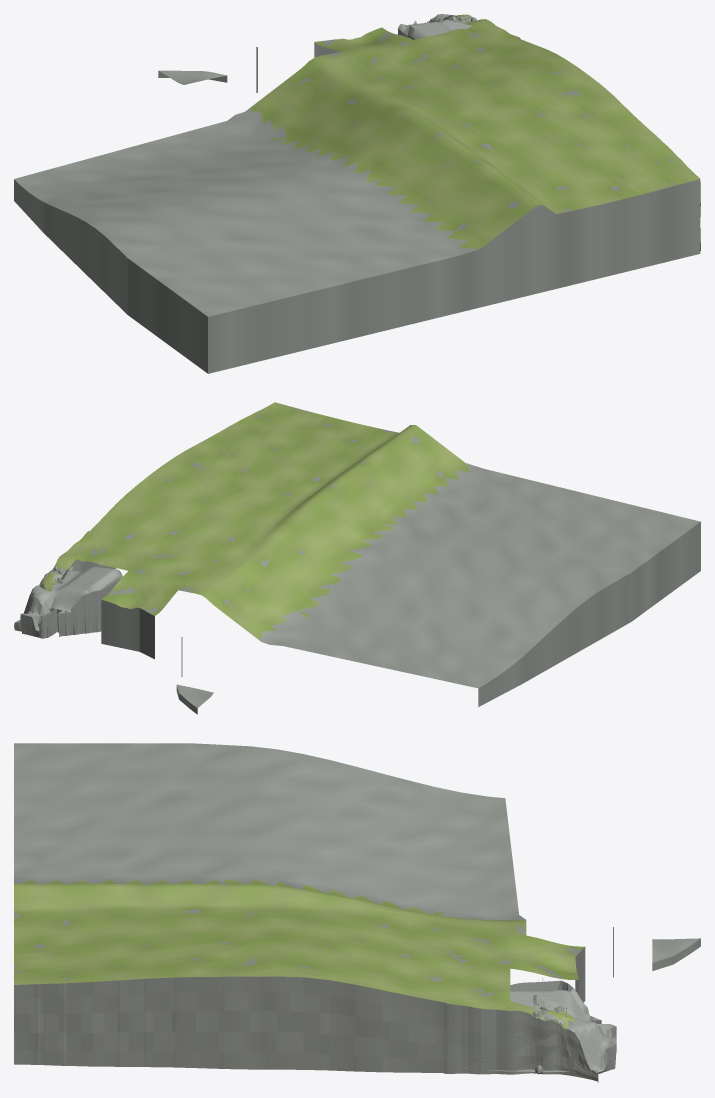
The model's file is retreat_departure_sal3_runtime.glb.
The picture shows the model from 3 angles, top to bottom: view 1: azimuth 30°, elevation 25°; view 2: azimuth 150°, elevation 25°; view 3: azimuth 270°, elevation 25°; orthographic projection. The views are drawn at different scales.
Parts seen in each view (by area): view 1: SAL3_Coastal_Backland_Stone, SAL3_Coastal_Backland_Soil, SAL3_Coastal_Backland_Headland; view 2: SAL3_Coastal_Backland_Stone, SAL3_Coastal_Backland_Soil, SAL3_Coastal_Backland_Headland; view 3: SAL3_Coastal_Backland_Stone, SAL3_Coastal_Backland_Soil, SAL3_Seaward_Cliff_0, SAL3_Seaward_Cliff_1, SAL3_Coastal_Backland_Headland, SAL3_Weathered_Coastal_Shoulder.
Boxes of the visible parts, bbox=[...] form: SAL3_Coastal_Backland_Stone: bbox=[14, 32, 700, 373]; SAL3_Coastal_Backland_Soil: bbox=[248, 14, 699, 248]; SAL3_Coastal_Backland_Headland: bbox=[397, 14, 472, 39]; SAL3_Coastal_Backland_Stone: bbox=[14, 408, 700, 714]; SAL3_Coastal_Backland_Soil: bbox=[39, 402, 469, 640]; SAL3_Coastal_Backland_Headland: bbox=[19, 566, 122, 638]; SAL3_Coastal_Backland_Stone: bbox=[14, 743, 700, 1082]; SAL3_Coastal_Backland_Soil: bbox=[14, 879, 584, 1028]; SAL3_Seaward_Cliff_0: bbox=[14, 976, 504, 1074]; SAL3_Seaward_Cliff_1: bbox=[505, 1010, 583, 1077]; SAL3_Coastal_Backland_Headland: bbox=[489, 980, 616, 1073]; SAL3_Weathered_Coastal_Shoulder: bbox=[533, 994, 564, 1028].
Bounding box in the file's own units: 376 × 60.5 × 392.
